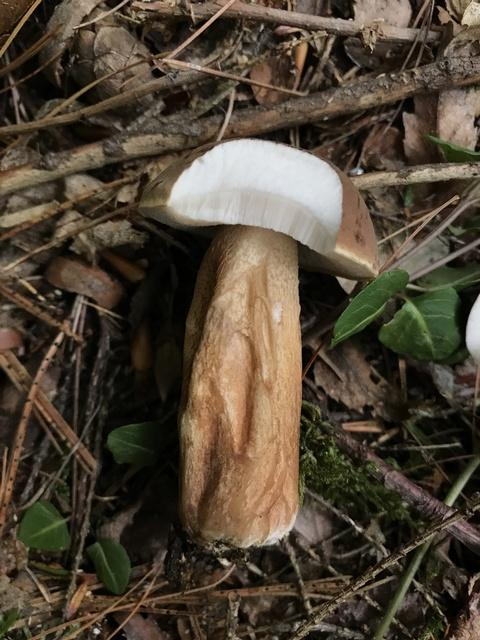poisonous_mushroom: (137, 136, 379, 552)
